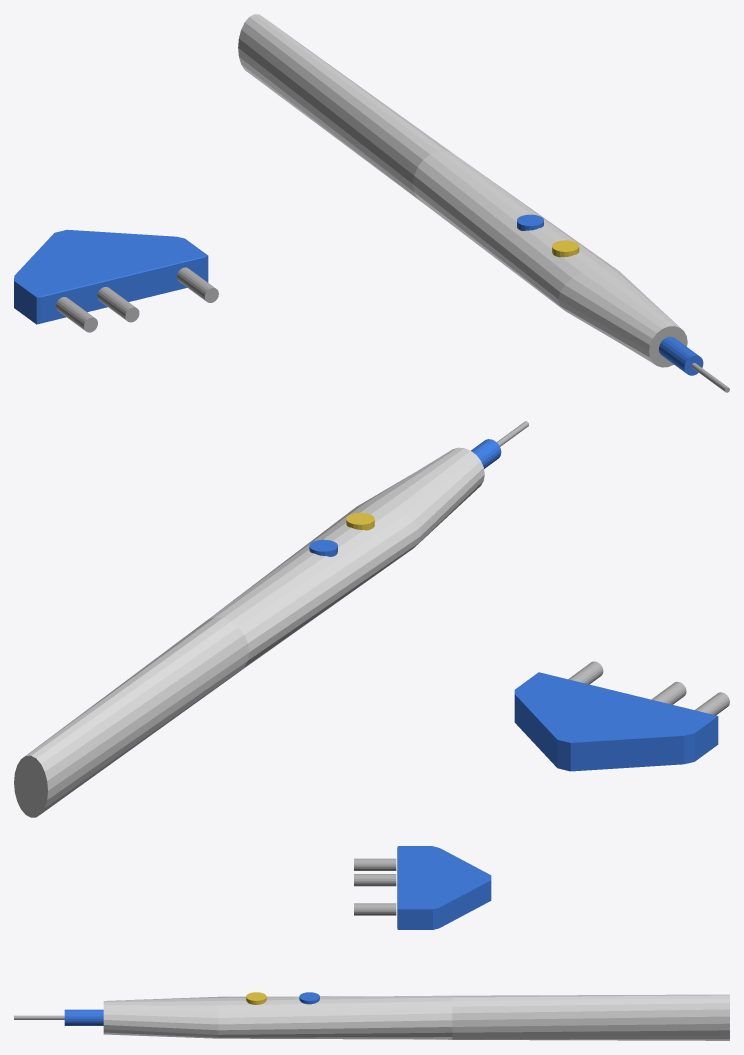
File: Lapiz.fbx
3 renders of one model, top to bottom at view 1: azimuth 30°, elevation 25°; view 2: azimuth 150°, elevation 25°; view 3: azimuth 270°, elevation 25°, orthographic. The views are drawn at different scales.
Visible parts, largest first — view 1: Lapiz, Conector; view 2: Lapiz, Conector; view 3: Lapiz, Conector.
Part boxes in pixels (box(x1,y1,x2,y2)): Lapiz: box(238, 14, 729, 392); Conector: box(14, 229, 218, 332); Lapiz: box(14, 421, 528, 817); Conector: box(514, 661, 729, 771); Lapiz: box(14, 992, 729, 1040); Conector: box(354, 846, 491, 929).
Bounding box in the file's own units: 1664 × 200 × 2896.
